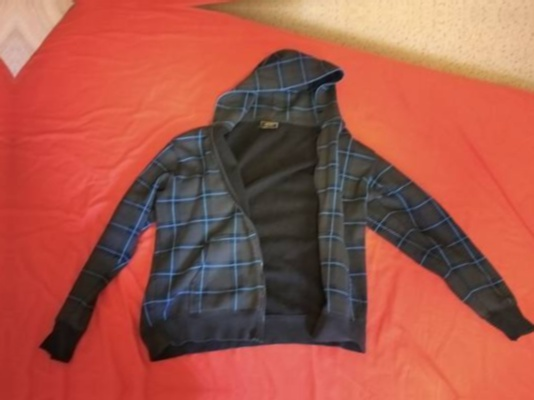Hoodie: (36, 43, 534, 392), (26, 393, 527, 400)
